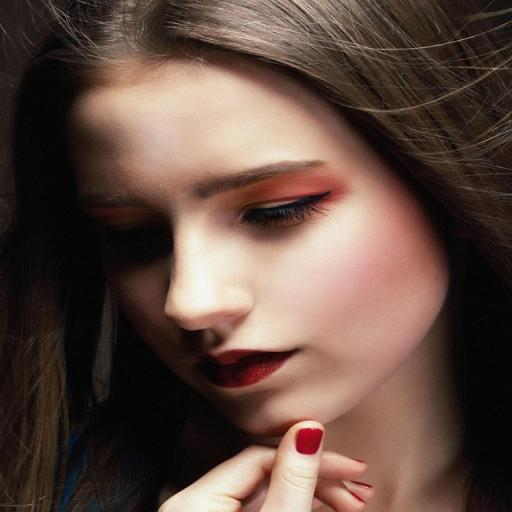lipstick: (200, 351, 294, 387)
